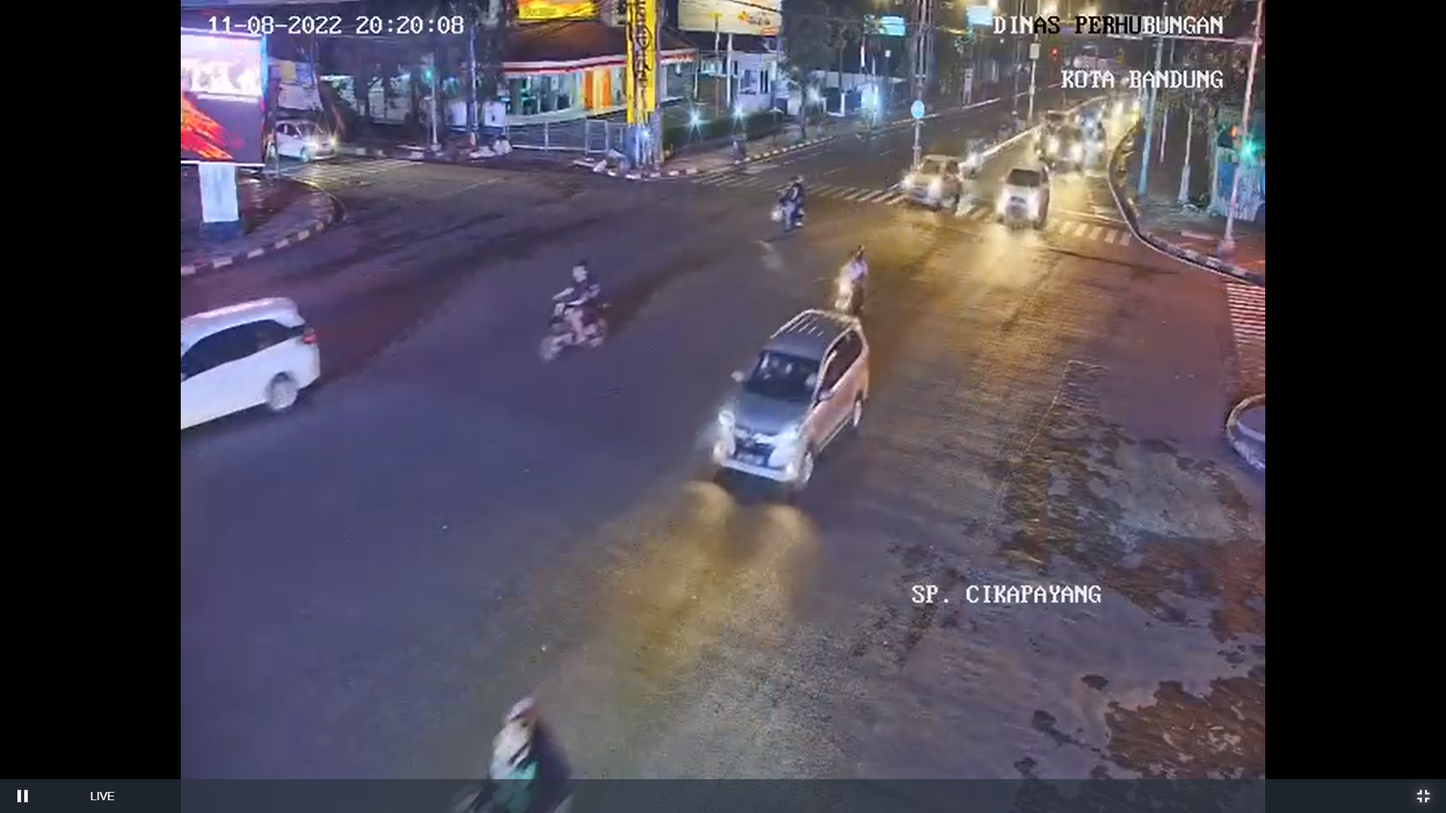without_helmet: (503, 262, 638, 368)
